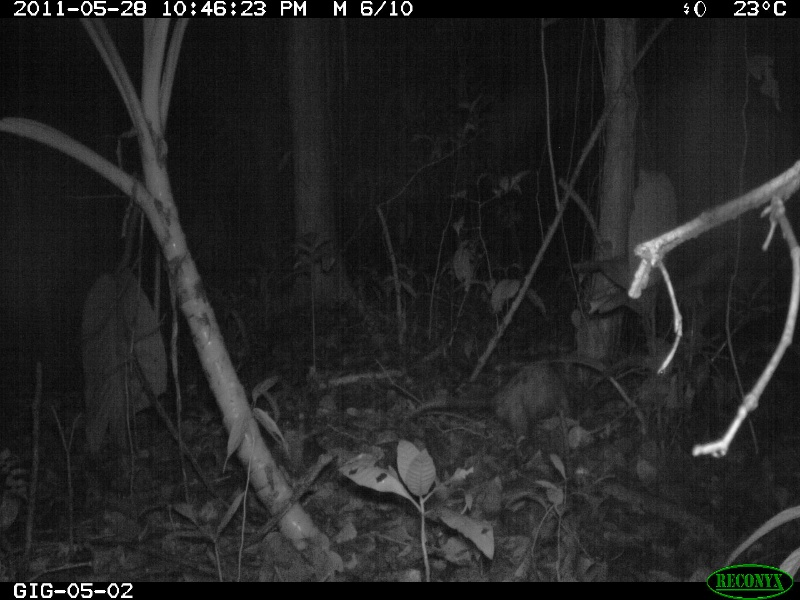opossum: (407, 358, 593, 451)
